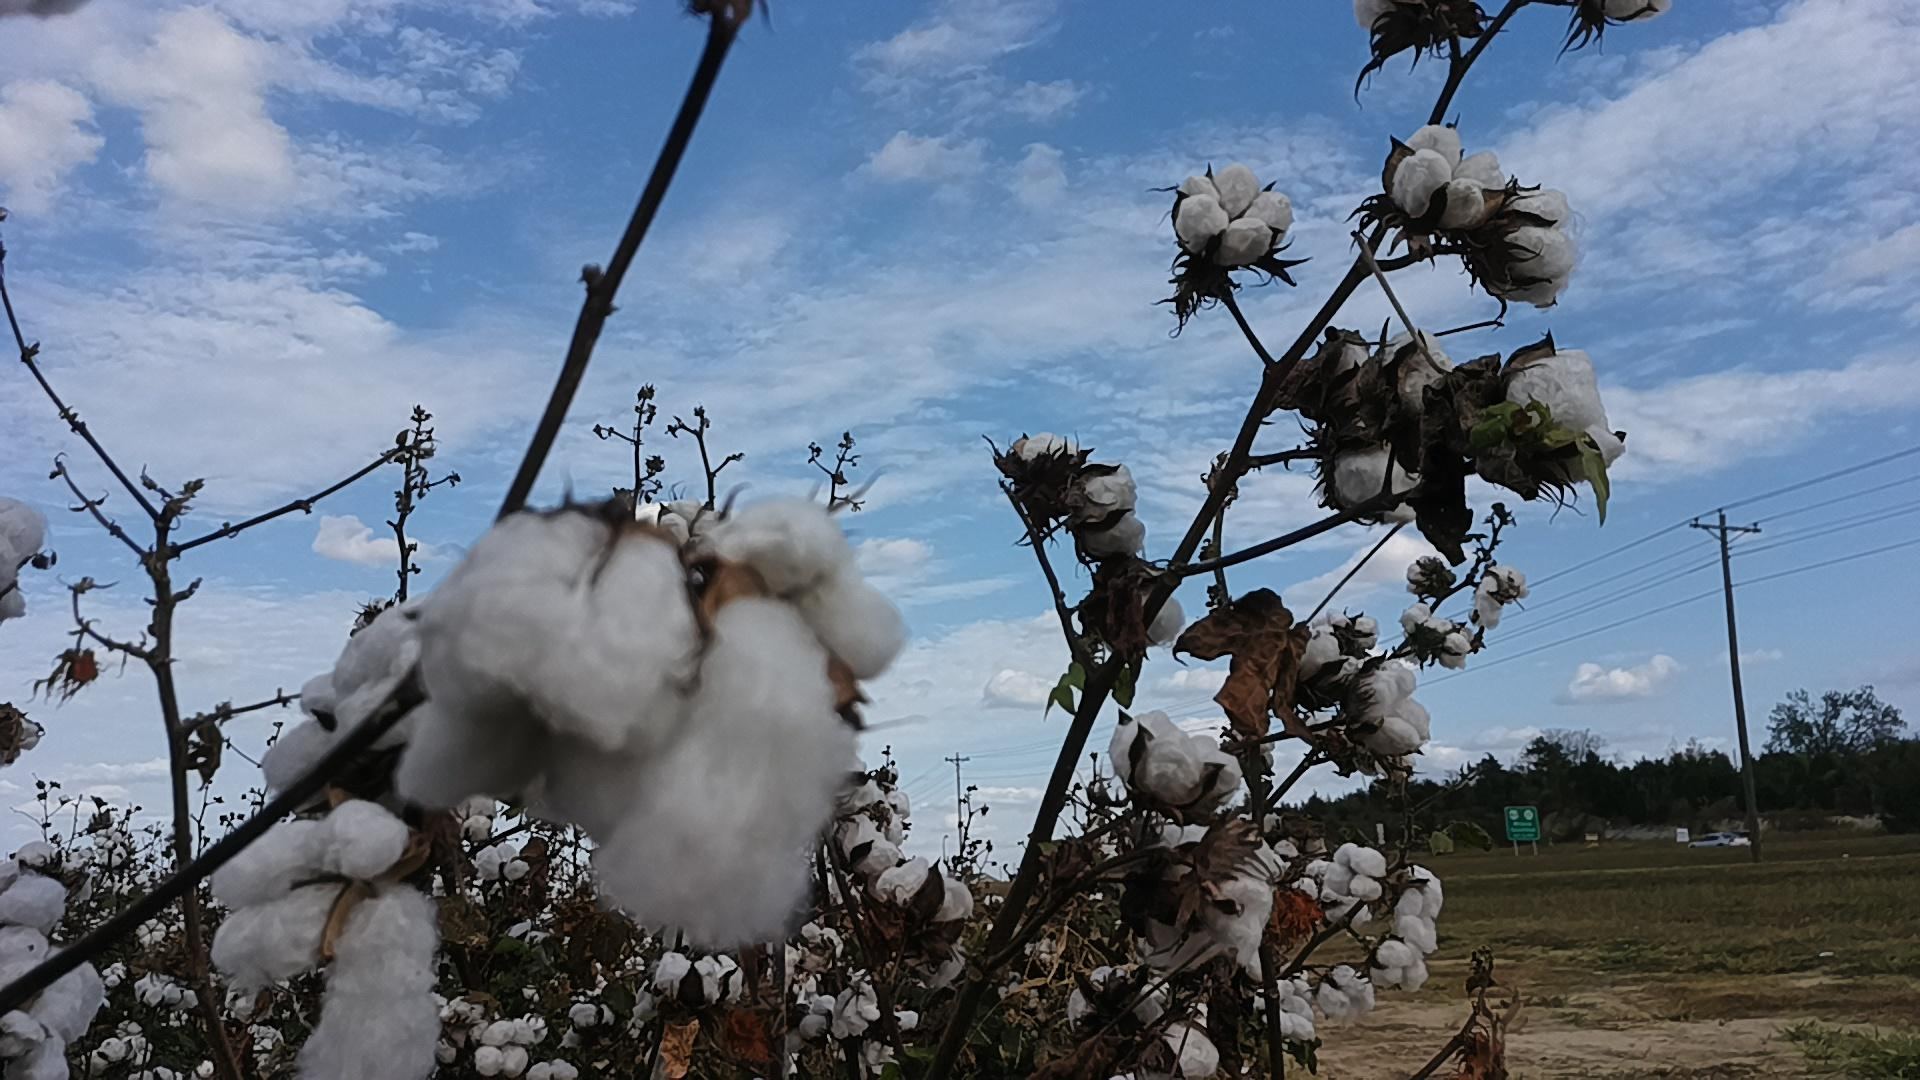cotton_ready: (524, 496, 906, 948), (404, 508, 694, 824), (245, 800, 435, 1080), (302, 600, 431, 767), (1472, 351, 1626, 491), (1139, 822, 1279, 971), (0, 870, 113, 1044), (1015, 429, 1146, 560), (1357, 326, 1460, 459), (1116, 708, 1242, 816), (1393, 123, 1510, 235), (878, 858, 977, 990), (1176, 164, 1298, 269), (1476, 187, 1581, 307), (1331, 427, 1435, 522), (261, 715, 361, 810), (629, 948, 746, 1029), (1353, 655, 1436, 761), (214, 843, 268, 992), (840, 757, 907, 874), (0, 492, 50, 618), (1068, 964, 1163, 1029), (0, 839, 94, 902), (1319, 331, 1378, 430), (1092, 589, 1188, 650), (1282, 629, 1357, 702), (1391, 861, 1447, 955), (0, 1009, 73, 1080), (634, 498, 735, 547), (1402, 603, 1470, 671), (1250, 977, 1319, 1042), (1151, 1021, 1222, 1080), (472, 1018, 537, 1080), (1311, 964, 1377, 1019), (1324, 844, 1389, 898), (1350, 0, 1432, 41), (1371, 940, 1428, 993), (1307, 611, 1378, 651), (1598, 0, 1676, 22)
